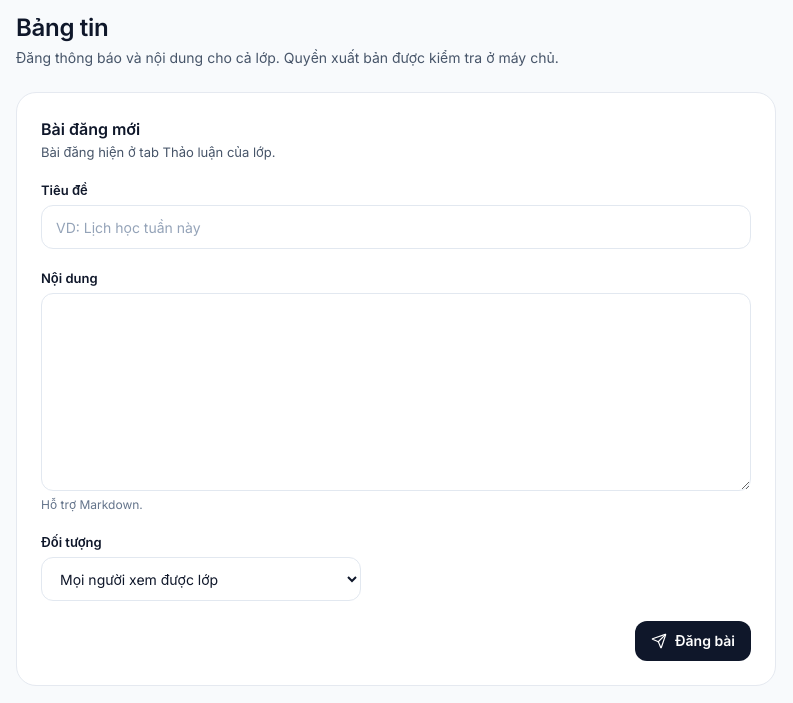
StudioCommunity pages › StudioFeed: a FEED:* wildcard grant can post
Step 1. Type "Lịch học" into the field labelled "Tiêu đề" → [396, 227], box 41,205 -> 751,249
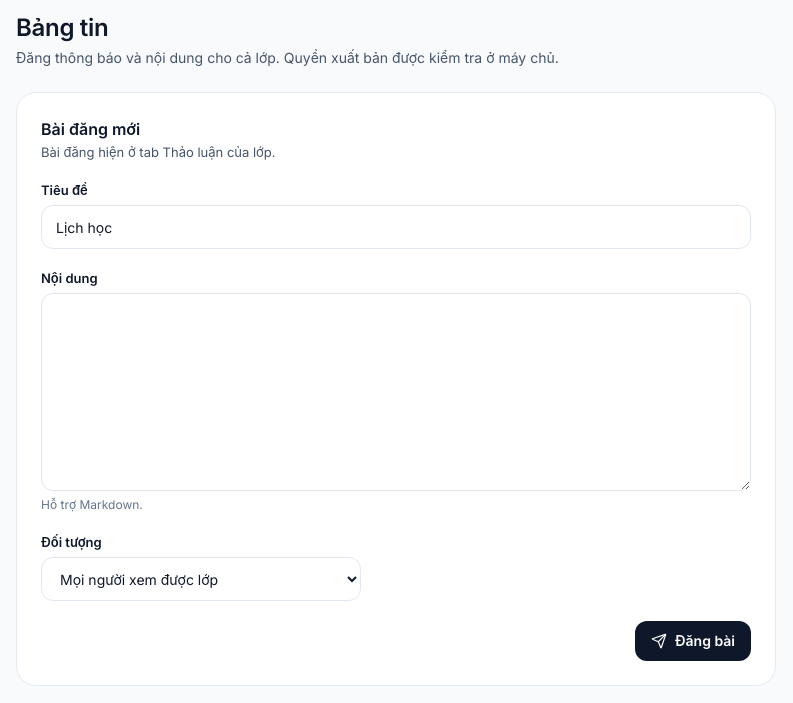
Step 2. Type "Thứ Ba 20:00" into the text box labelled "Nội dung" → [396, 392], box 41,293 -> 751,491
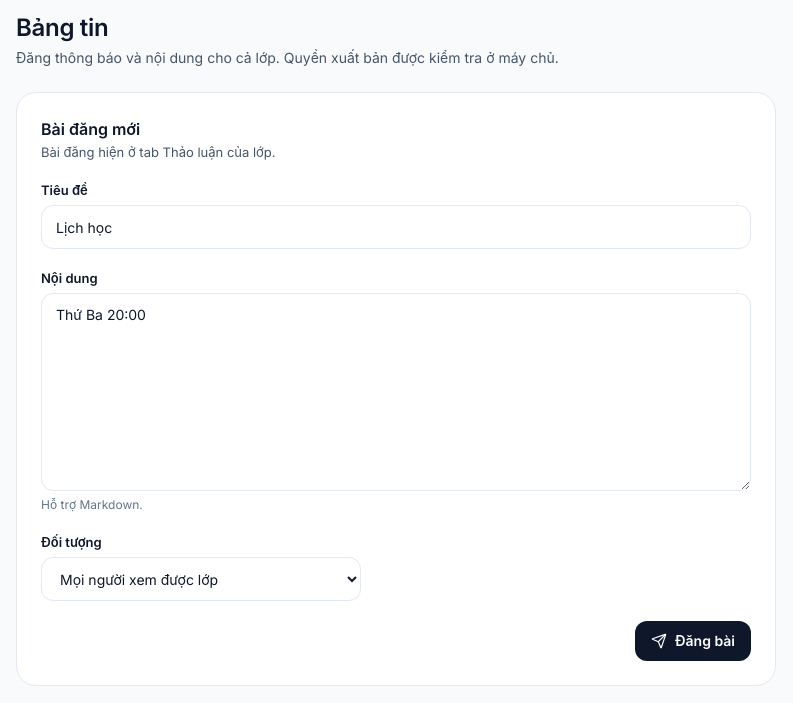
Step 3. Click the button "Đăng bài" → [693, 641], box 635,621 -> 751,661
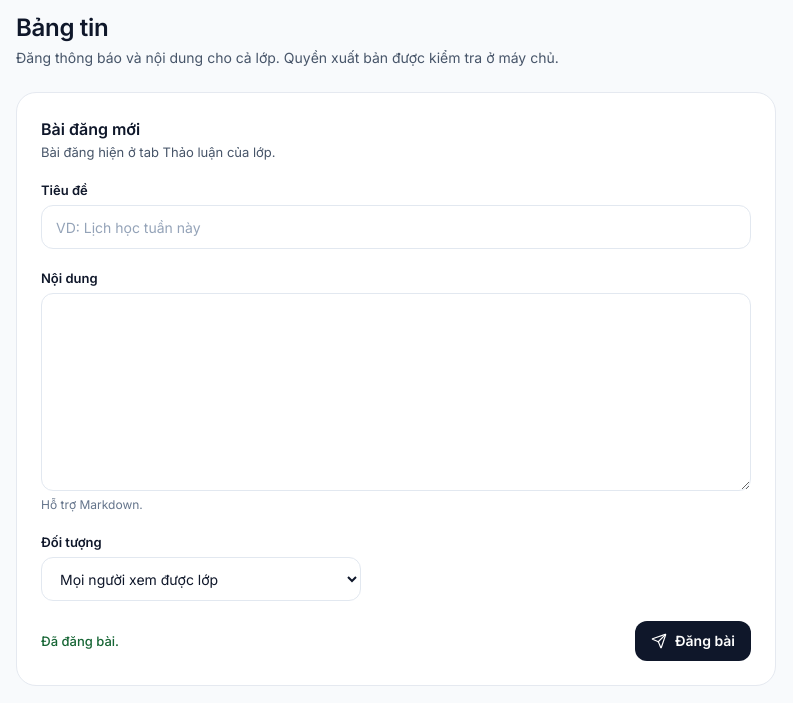
Check: the message reads "Đã đăng bài.", box 41,633 -> 119,649
